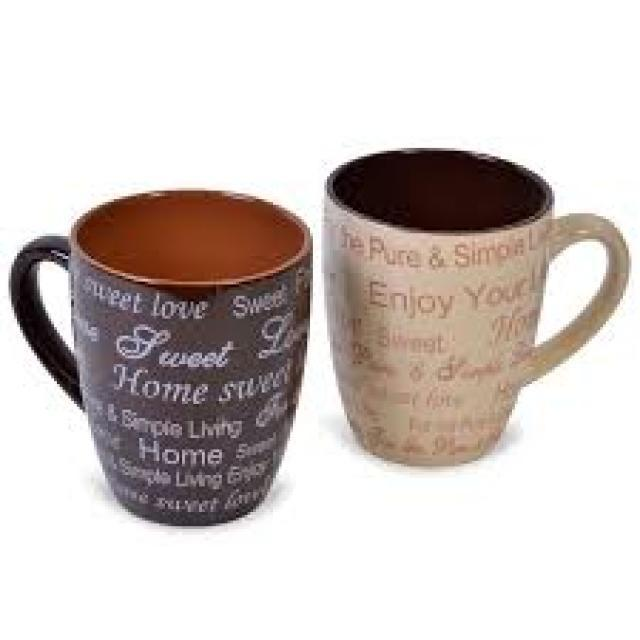taza: (12, 180, 320, 530), (323, 142, 634, 476)
